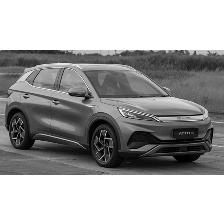EV: (6, 62, 216, 171)
